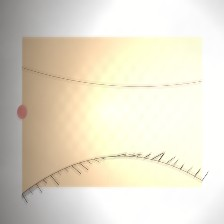corneal_ulcer: (79, 96, 142, 147)
